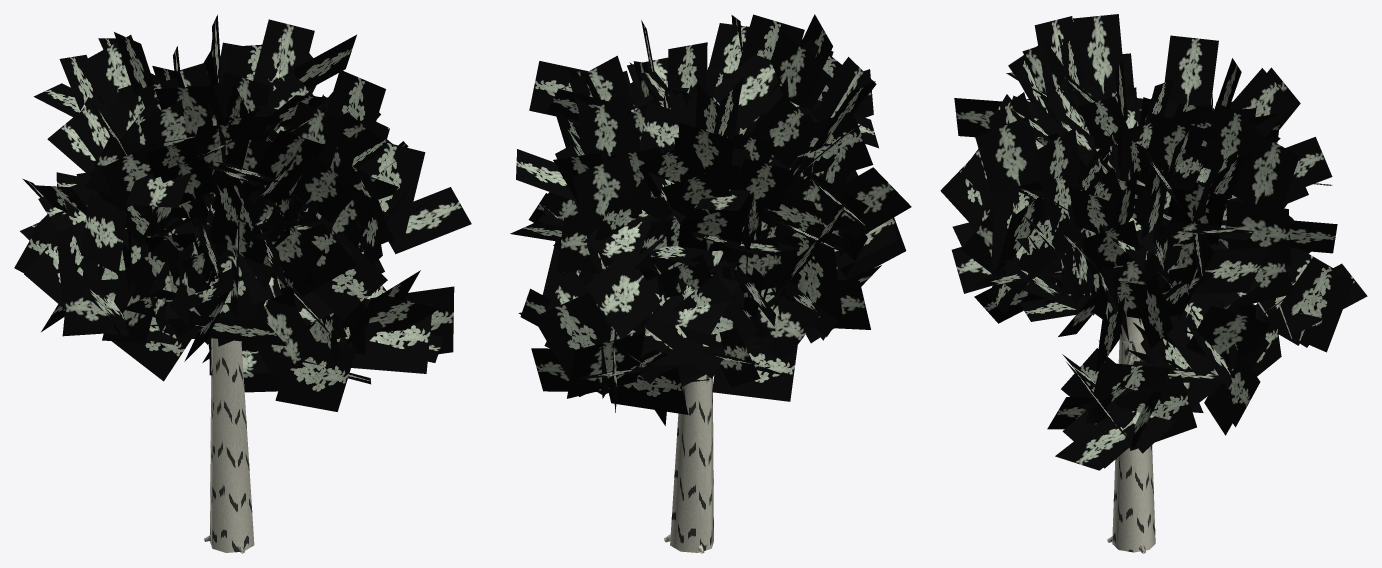
The model's file is birch_a.glb.
The picture shows the model from 3 angles, left to right: view 1: azimuth 30°, elevation 25°; view 2: azimuth 150°, elevation 25°; view 3: azimuth 270°, elevation 25°; orthographic projection. The views are drawn at different scales.
Parts seen in each view (by area): view 1: birch_a; view 2: birch_a; view 3: birch_a.
Part boxes in pixels (x1,y1,x2,y2): birch_a: [14, 14, 471, 553]; birch_a: [510, 14, 911, 553]; birch_a: [940, 14, 1367, 553].
Bounding box in the file's own units: 1.41 × 1.76 × 1.4.
1 material, 1 textured.
